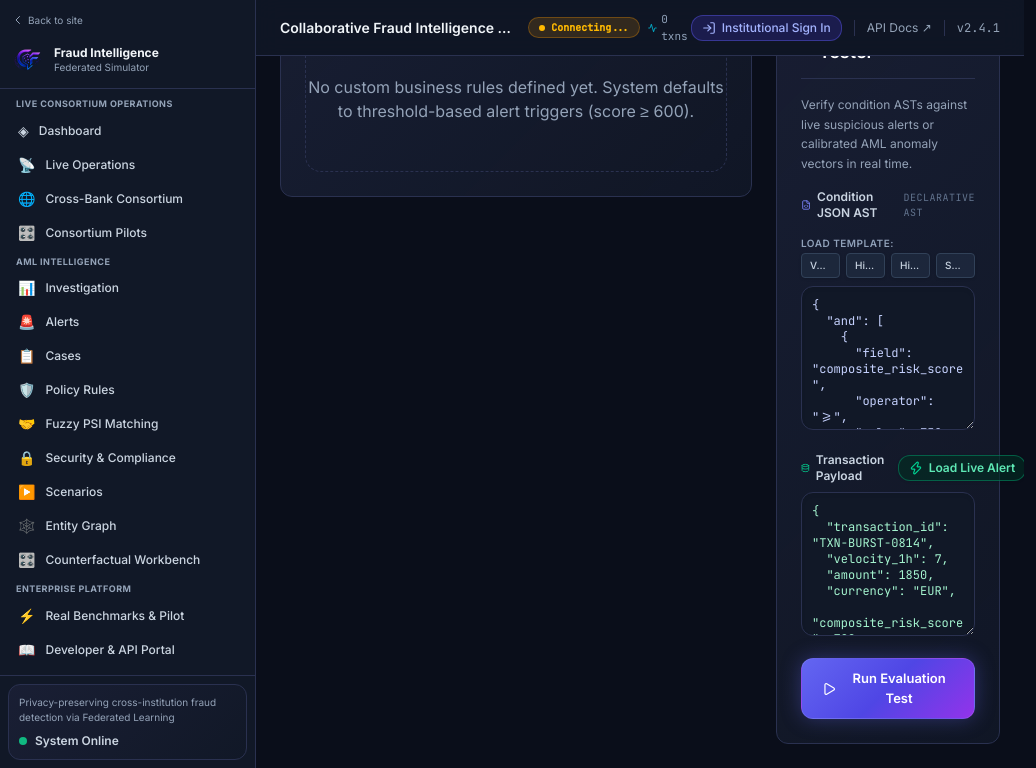
it: Comprehensive Error States, Validation & Resilience Matrix Suite › 4. Client-Side & Form Validation Errors › catches invalid JSON in Mock Transaction Payload and shows validation warning
The image size is (1036, 768).
(page scrolled)
Replace the text in the text box named "Mock Transaction Payload" with "NOT_JSON_DATA". click: (888, 564)
box: [801, 492, 975, 636]
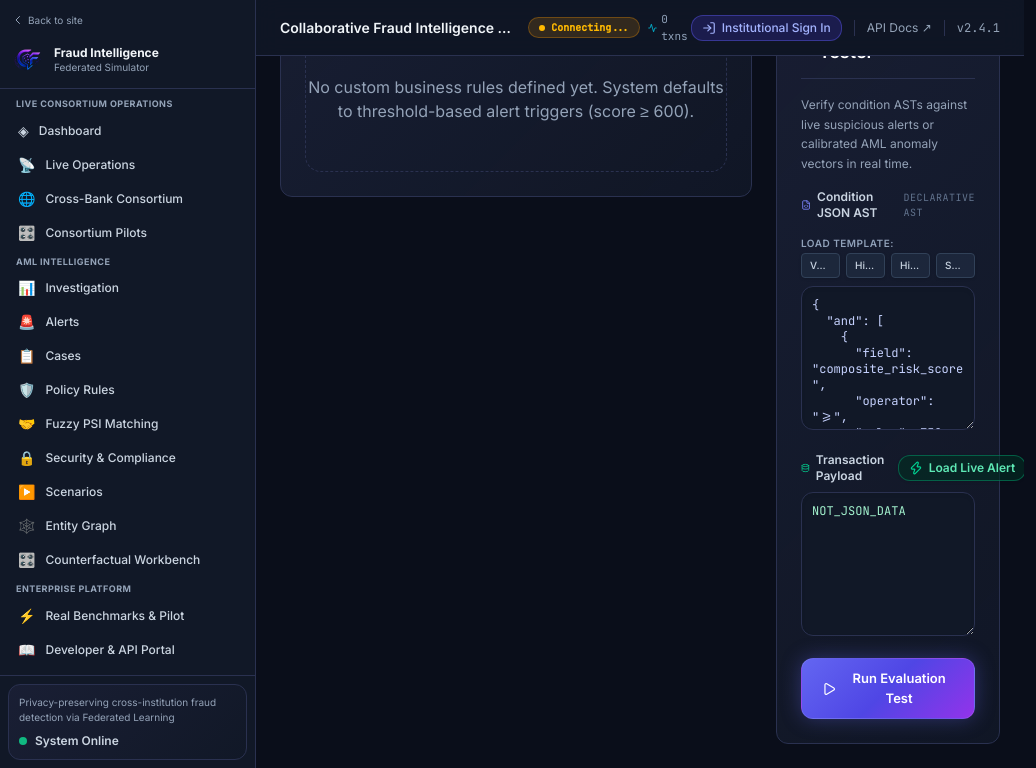
Click the button "Run Evaluation Test". click: (888, 689)
box: [801, 658, 975, 719]
(page scrolled)
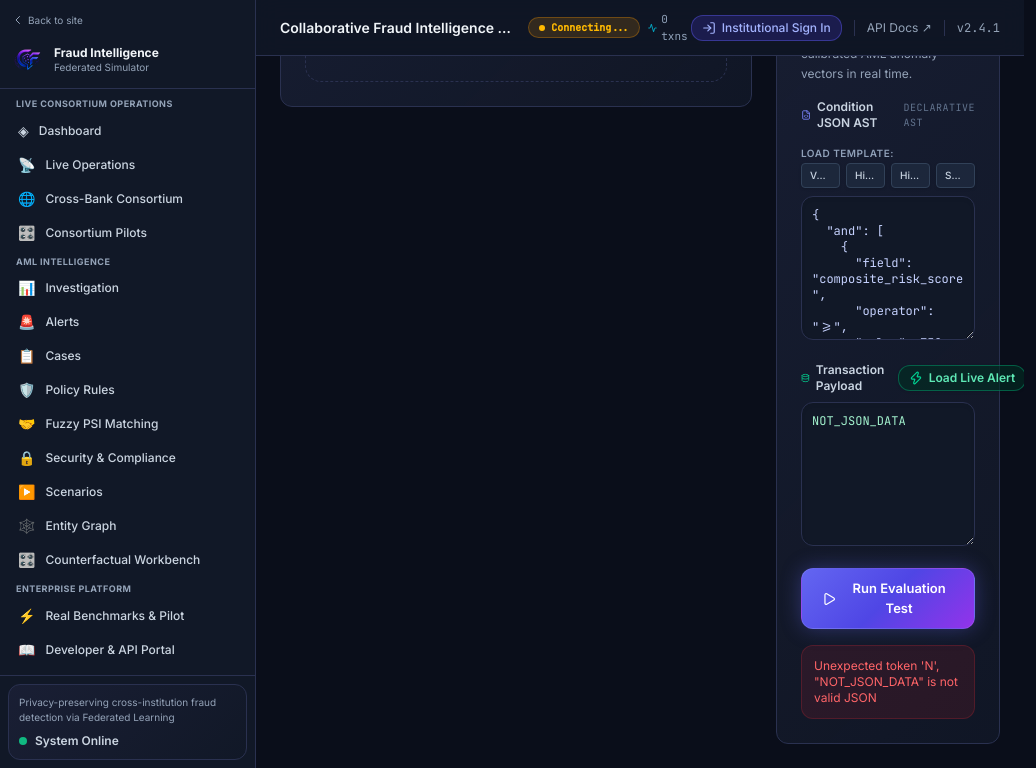
Check: the text "Unexpected token 'N', \"NOT_JSON_DATA\" is not valid JSON" is shown, box [801, 645, 975, 719]
